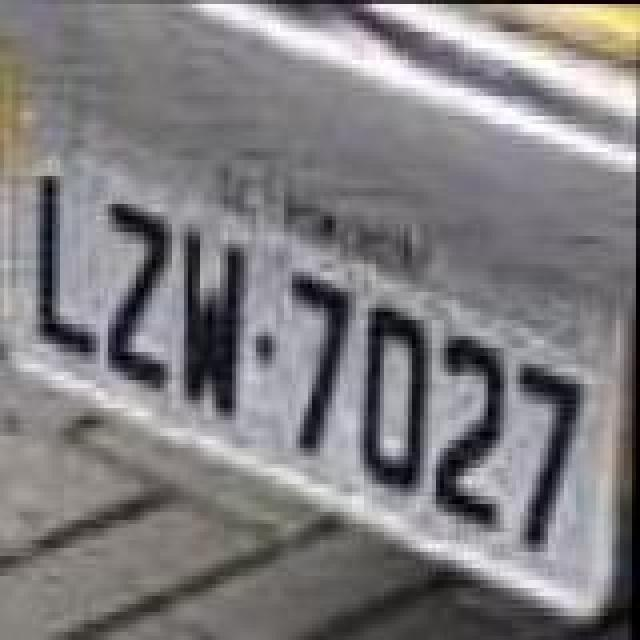2: (428, 332, 504, 536)
7: (512, 350, 596, 554), (282, 264, 358, 460)
L: (30, 170, 106, 366)
O: (358, 298, 434, 490)
W: (174, 224, 250, 428)
Z: (102, 190, 178, 394)
